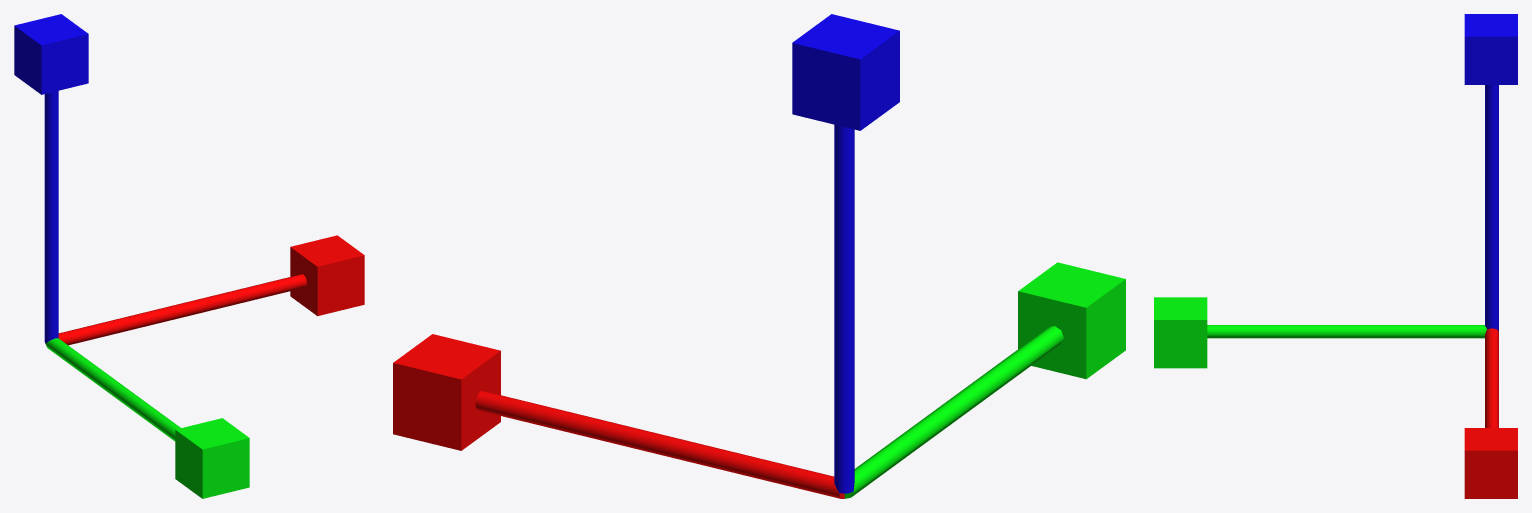
The model's file is GizmoAxisScale.fbx.
3 views of the same model, side by side, from view 1: azimuth 30°, elevation 25°; view 2: azimuth 150°, elevation 25°; view 3: azimuth 270°, elevation 25° (orthographic). The views are drawn at different scales.
Parts seen in each view (by area): view 1: GizmoScale; view 2: GizmoScale; view 3: GizmoScale.
Part boxes in pixels (x1=…): GizmoScale: x1=14, y1=14, x2=364, y2=498; GizmoScale: x1=393, y1=14, x2=1125, y2=498; GizmoScale: x1=1154, y1=14, x2=1517, y2=498.
Bounding box in the file's own units: 1.26 × 1.25 × 1.26.
